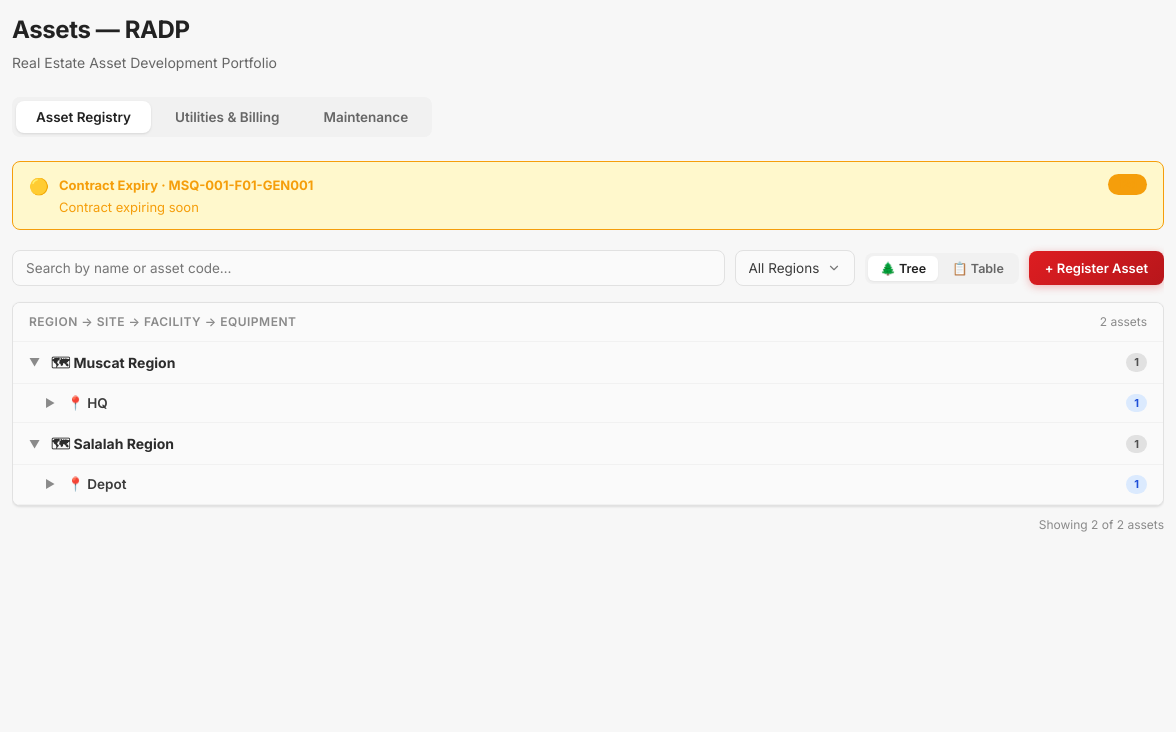
Test: search bar filters assets by name
Step 1. Click the button "📋 Table" → (978, 268), box top-left (940, 256), bottom-right (1016, 280)
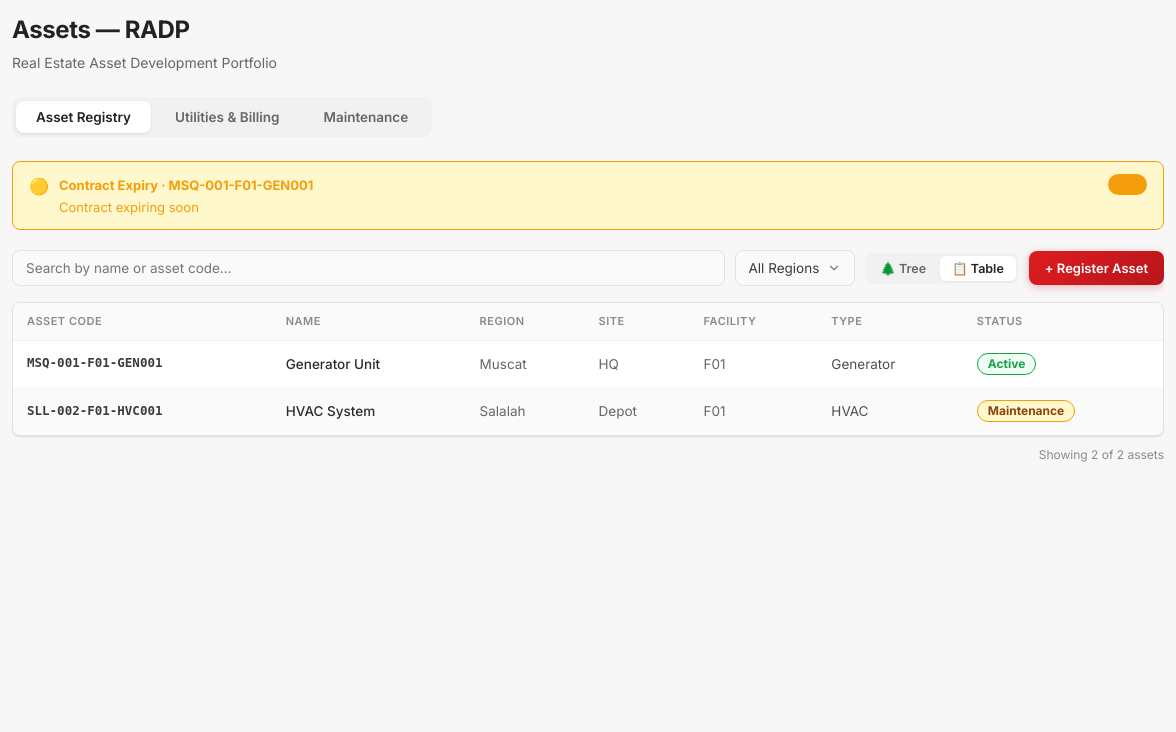
Expected: the text "Generator Unit" is shown, top-left (272, 340), bottom-right (466, 387)
Step 2. Type "HVAC" into the field with test id "search-assets" → (368, 268), box top-left (12, 250), bottom-right (724, 286)
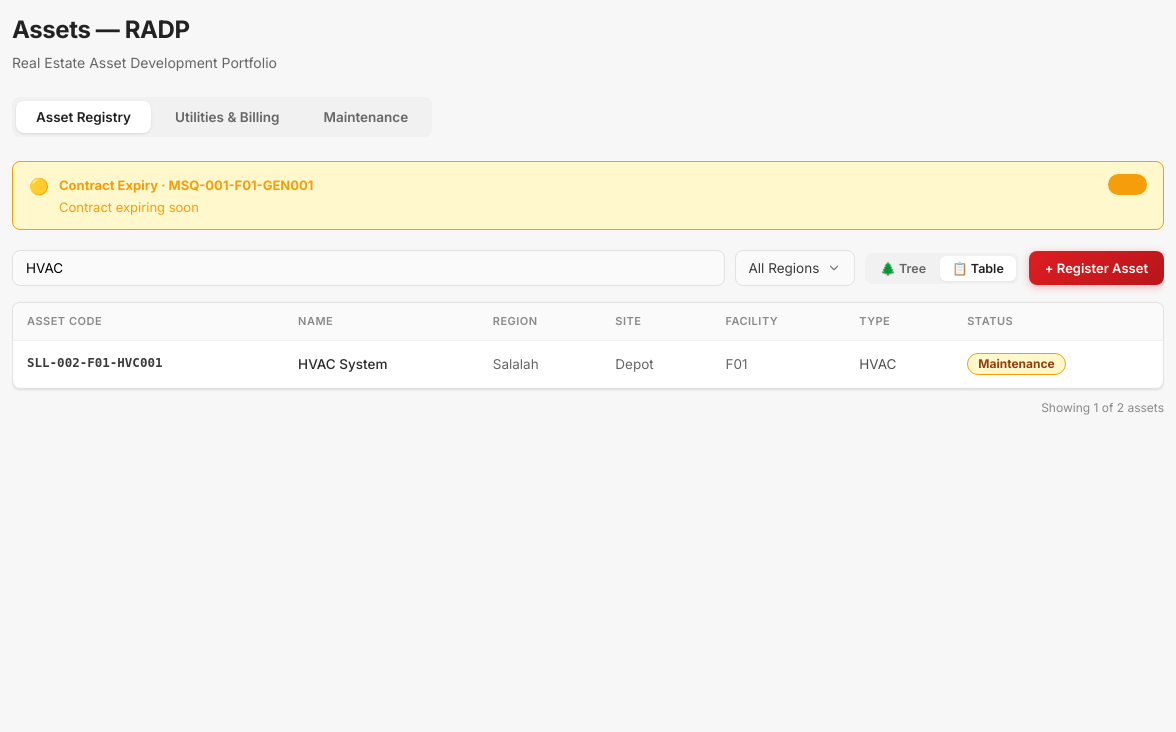
Expected: the text "HVAC System" is shown, top-left (284, 340), bottom-right (479, 387)
Expected: the text "Generator Unit" is gone
